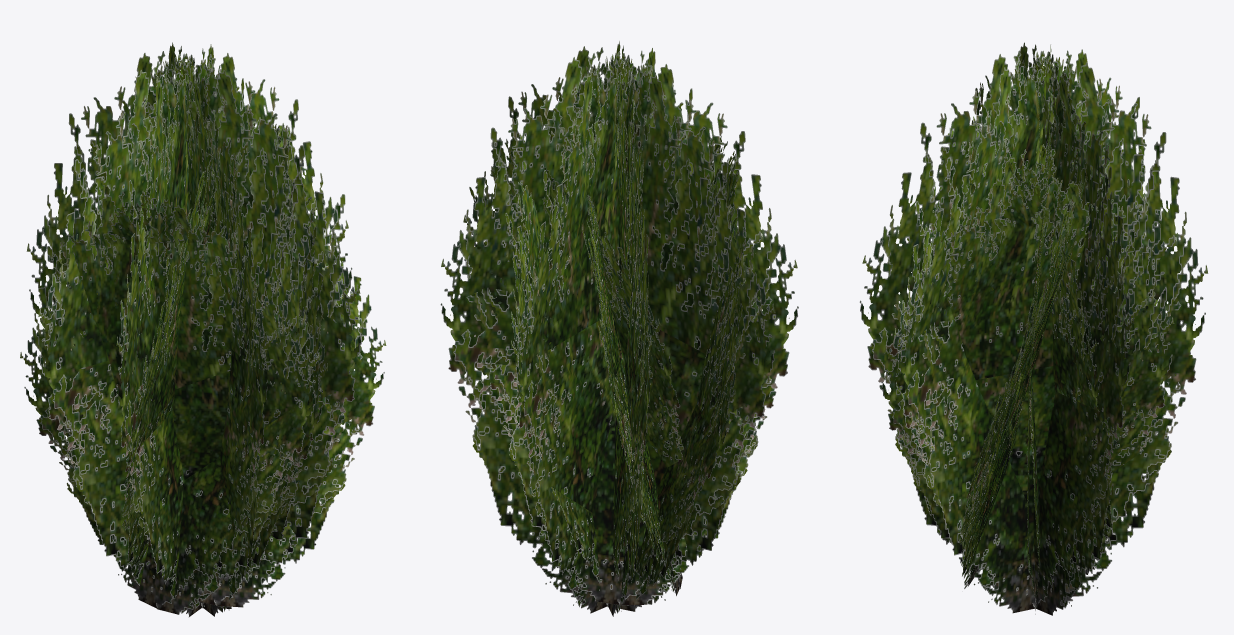
File: Planter_011.fbx
3 renders of one model, left to right at view 1: azimuth 30°, elevation 25°; view 2: azimuth 150°, elevation 25°; view 3: azimuth 270°, elevation 25°, orthographic.
Visible parts, largest first — view 1: Planters_011; view 2: Planters_011; view 3: Planters_011.
Part boxes in pixels (bbox=[...]): Planters_011: bbox=[20, 42, 386, 617]; Planters_011: bbox=[440, 41, 798, 616]; Planters_011: bbox=[859, 42, 1208, 615].
Size of the model in its own units: 284 by 466 by 276.
